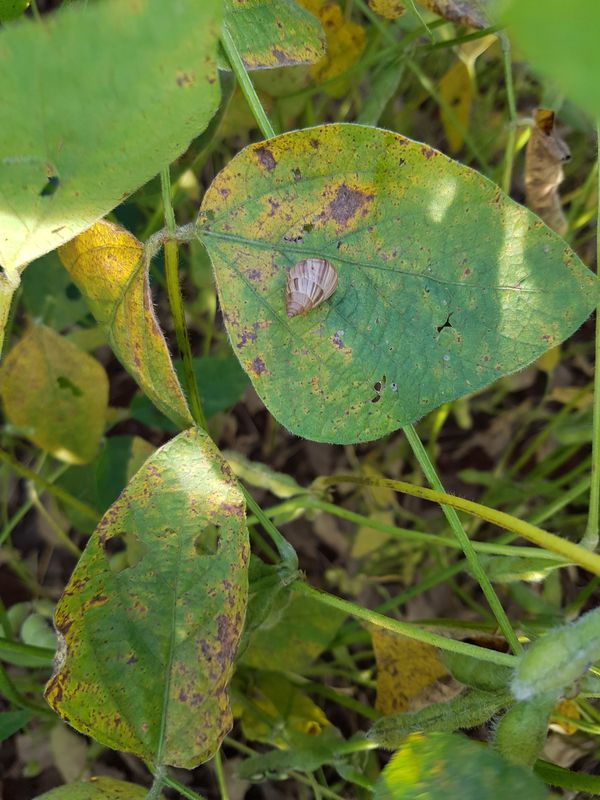Gastropoda: (274, 247, 348, 325)
